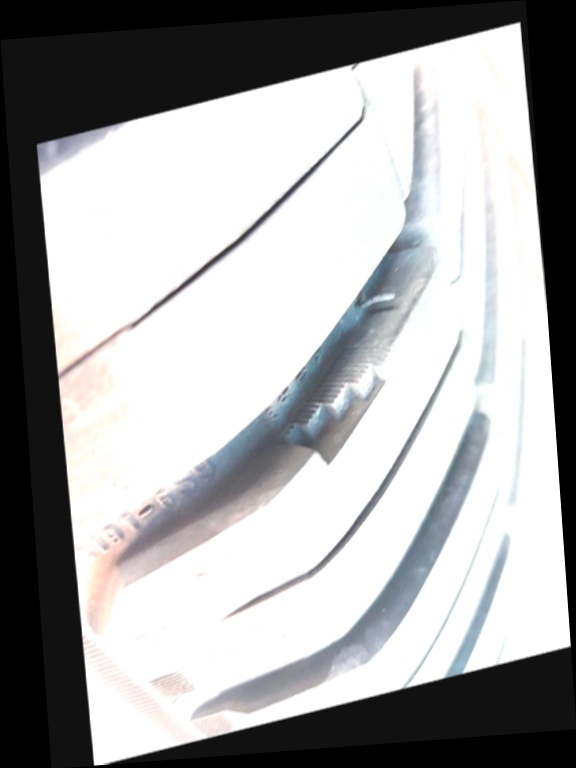temoin:90: (260, 328, 415, 487)
